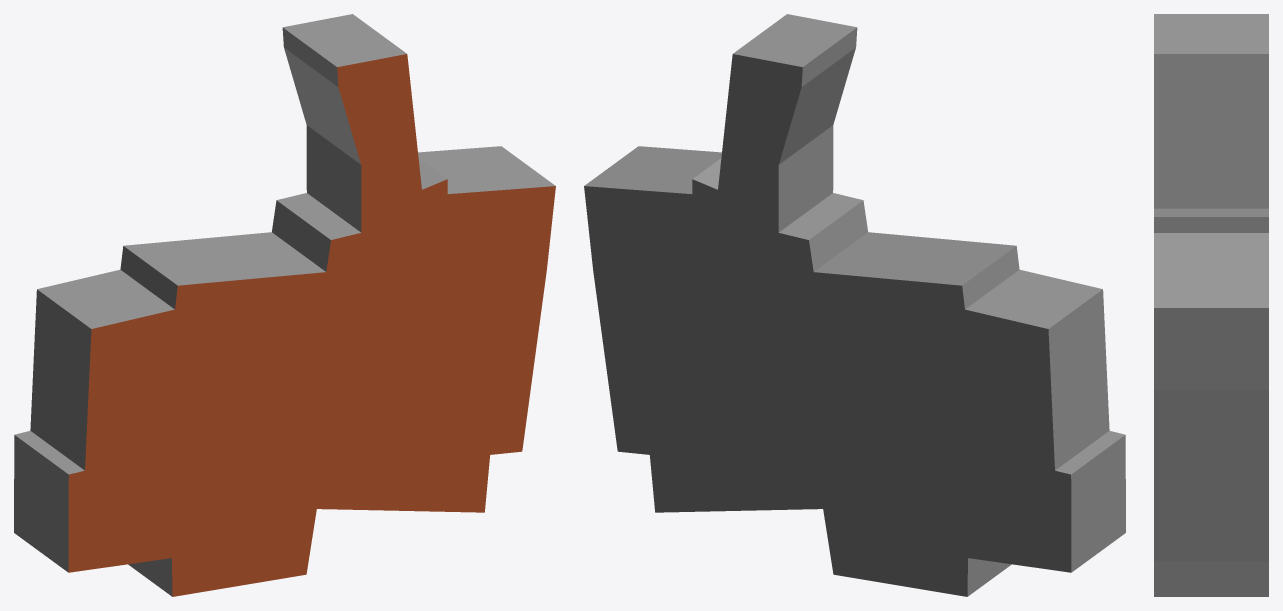
File: construction_1999_assumed_A_Casa_h6m.obj
3 renders of one model, left to right at view 1: azimuth 30°, elevation 25°; view 2: azimuth 150°, elevation 25°; view 3: azimuth 270°, elevation 25°, orthographic. The views are drawn at different scales.
Parts seen in each view (by area): view 1: construction_1999_assumed_A_Casa; view 2: construction_1999_assumed_A_Casa; view 3: construction_1999_assumed_A_Casa.
Part boxes in pixels (x1,y1,x2,y2): construction_1999_assumed_A_Casa: [14, 14, 555, 596]; construction_1999_assumed_A_Casa: [584, 14, 1125, 596]; construction_1999_assumed_A_Casa: [1154, 14, 1268, 596].
Bounding box in the file's own units: 30.95 × 30.34 × 6.
